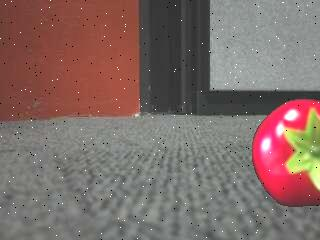Tomato: (249, 96, 320, 207)
